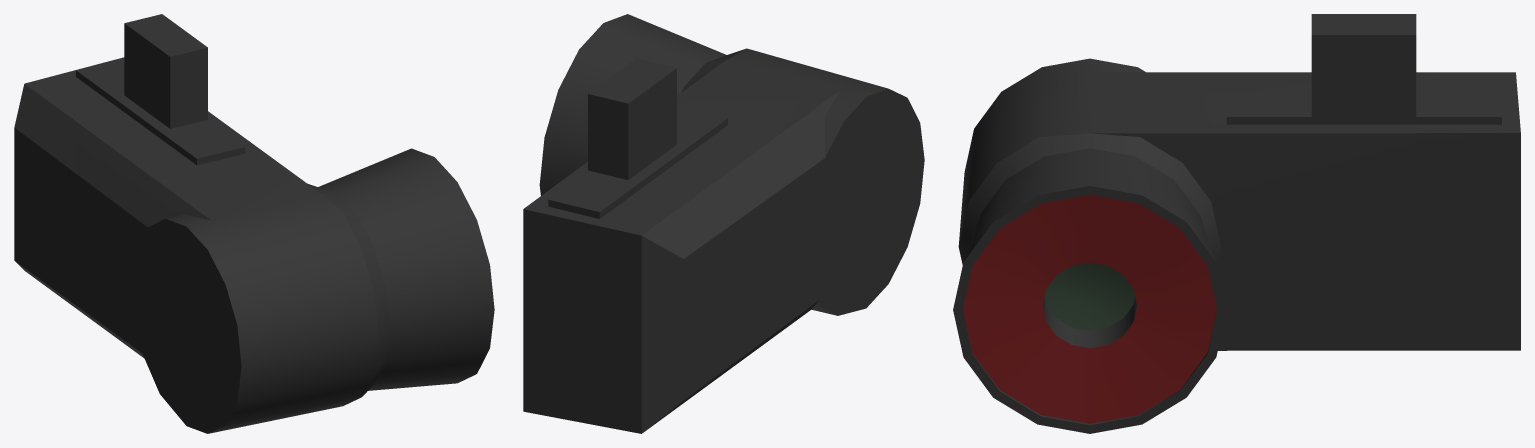
The model's file is seek_thermal_xr.glb.
3 renders of one model, left to right at view 1: azimuth 30°, elevation 25°; view 2: azimuth 150°, elevation 25°; view 3: azimuth 270°, elevation 25°, orthographic. The views are drawn at different scales.
Parts seen in each view (by area): view 1: seek_thermal_xr; view 2: seek_thermal_xr; view 3: seek_thermal_xr.
Part boxes in pixels (x1=…): seek_thermal_xr: x1=14, y1=14, x2=494, y2=433; seek_thermal_xr: x1=523, y1=14, x2=924, y2=433; seek_thermal_xr: x1=953, y1=14, x2=1520, y2=433.
Bounding box in the file's own units: 0.0249 × 0.0276 × 0.0434.
